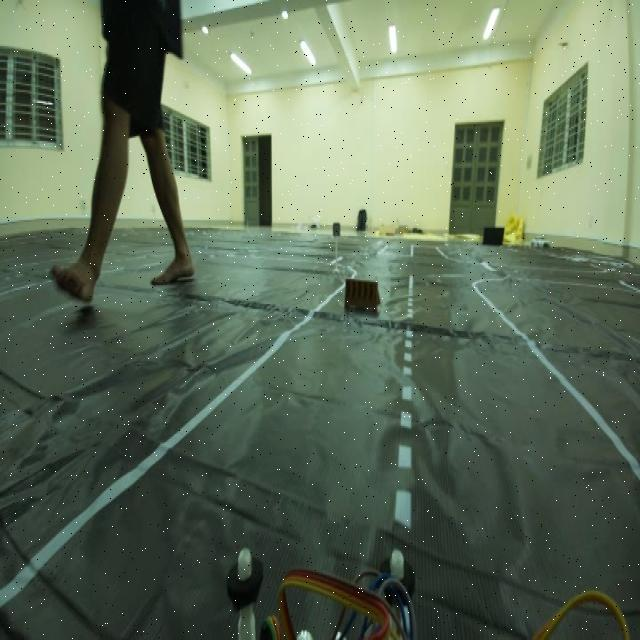roadblock: (336, 263, 386, 329)
